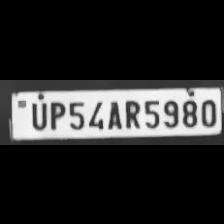0: (198, 96, 218, 127)
4: (86, 97, 104, 129)
5: (65, 97, 85, 129), (140, 95, 160, 127)
8: (180, 96, 198, 128)
9: (160, 95, 180, 127)
A: (104, 97, 122, 129)
P: (46, 98, 64, 130)
R: (122, 96, 140, 128)
U: (26, 98, 48, 130)
